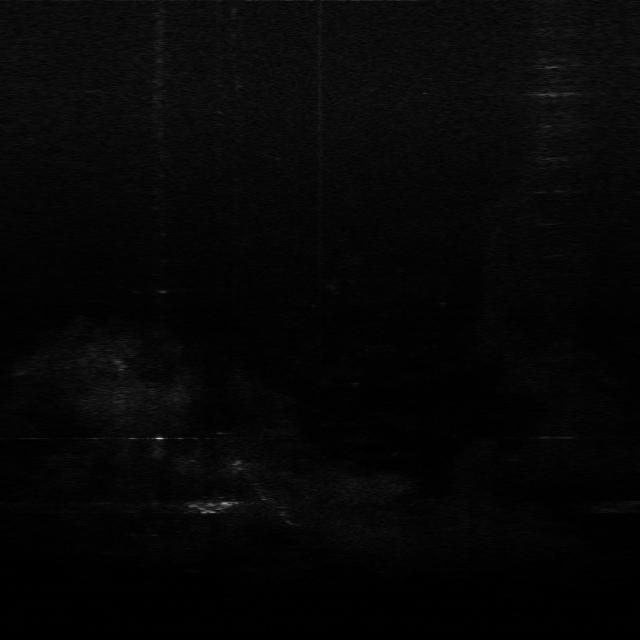rov: (183, 499, 239, 516)
